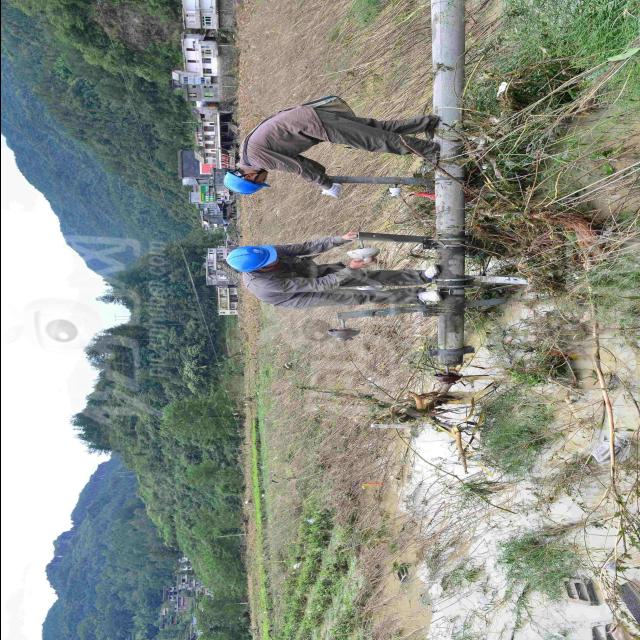helmet: (220, 238, 284, 276), (219, 168, 267, 202)
